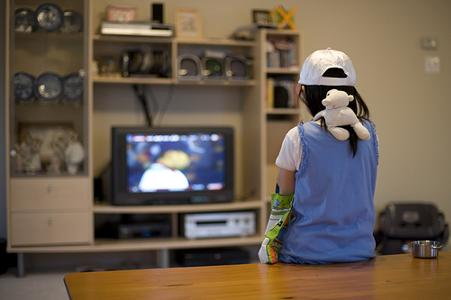person: (261, 49, 378, 267)
